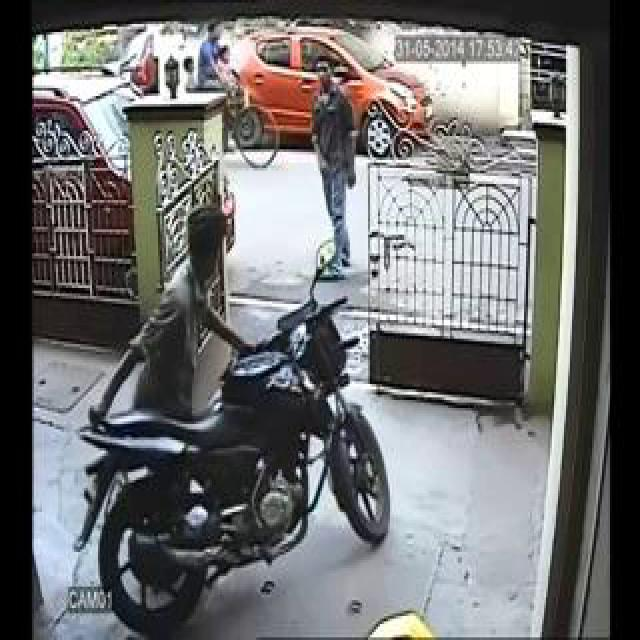stealing: (108, 21, 393, 640)
